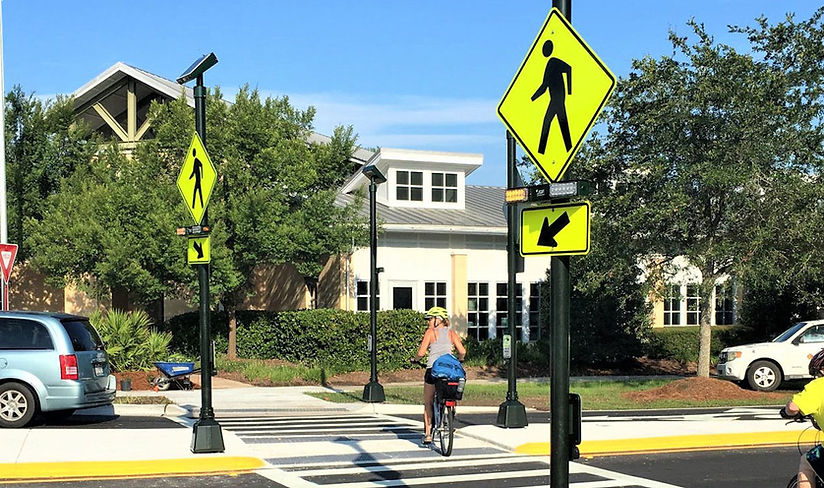Crosswalk: (160, 360, 718, 488)
